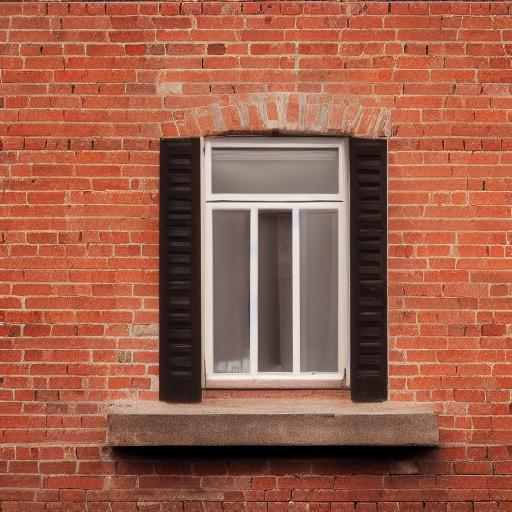Window: (109, 94, 444, 458)
